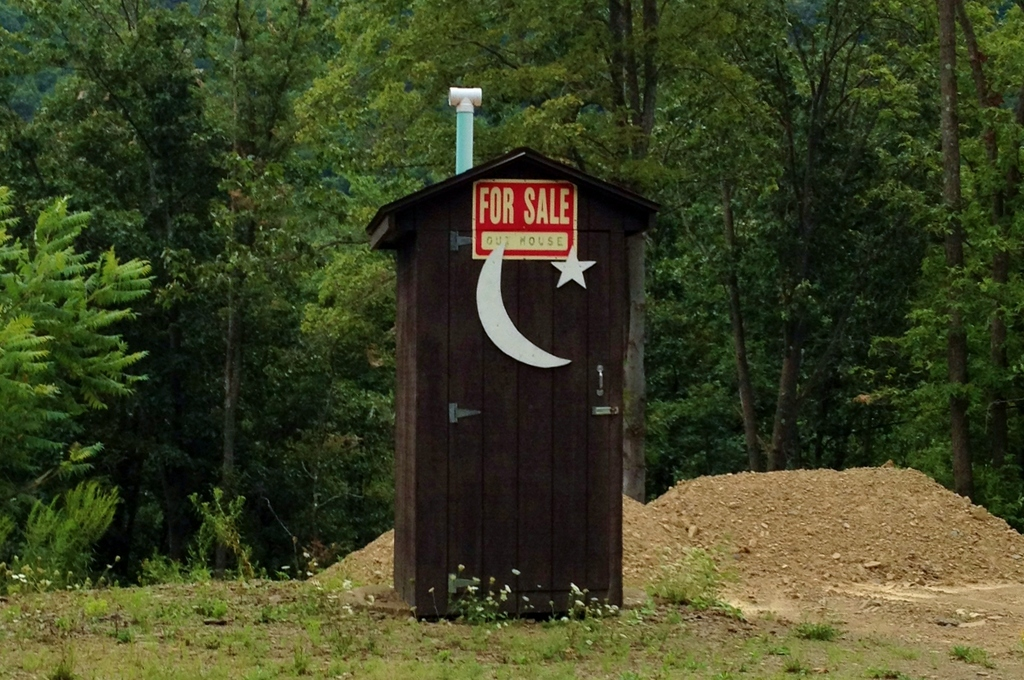Tree: (0, 0, 1023, 572)
